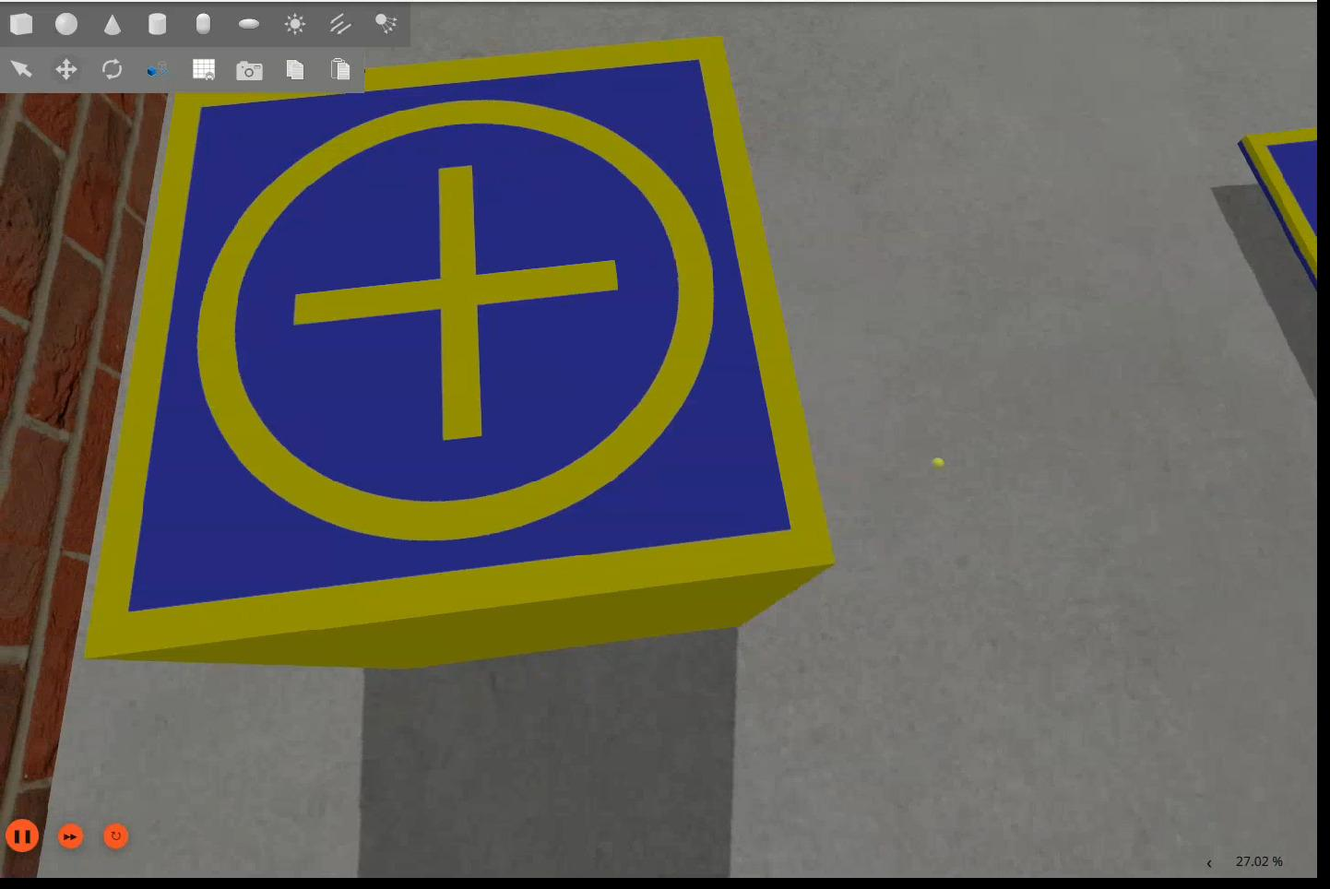small_base: (91, 1, 848, 660)
